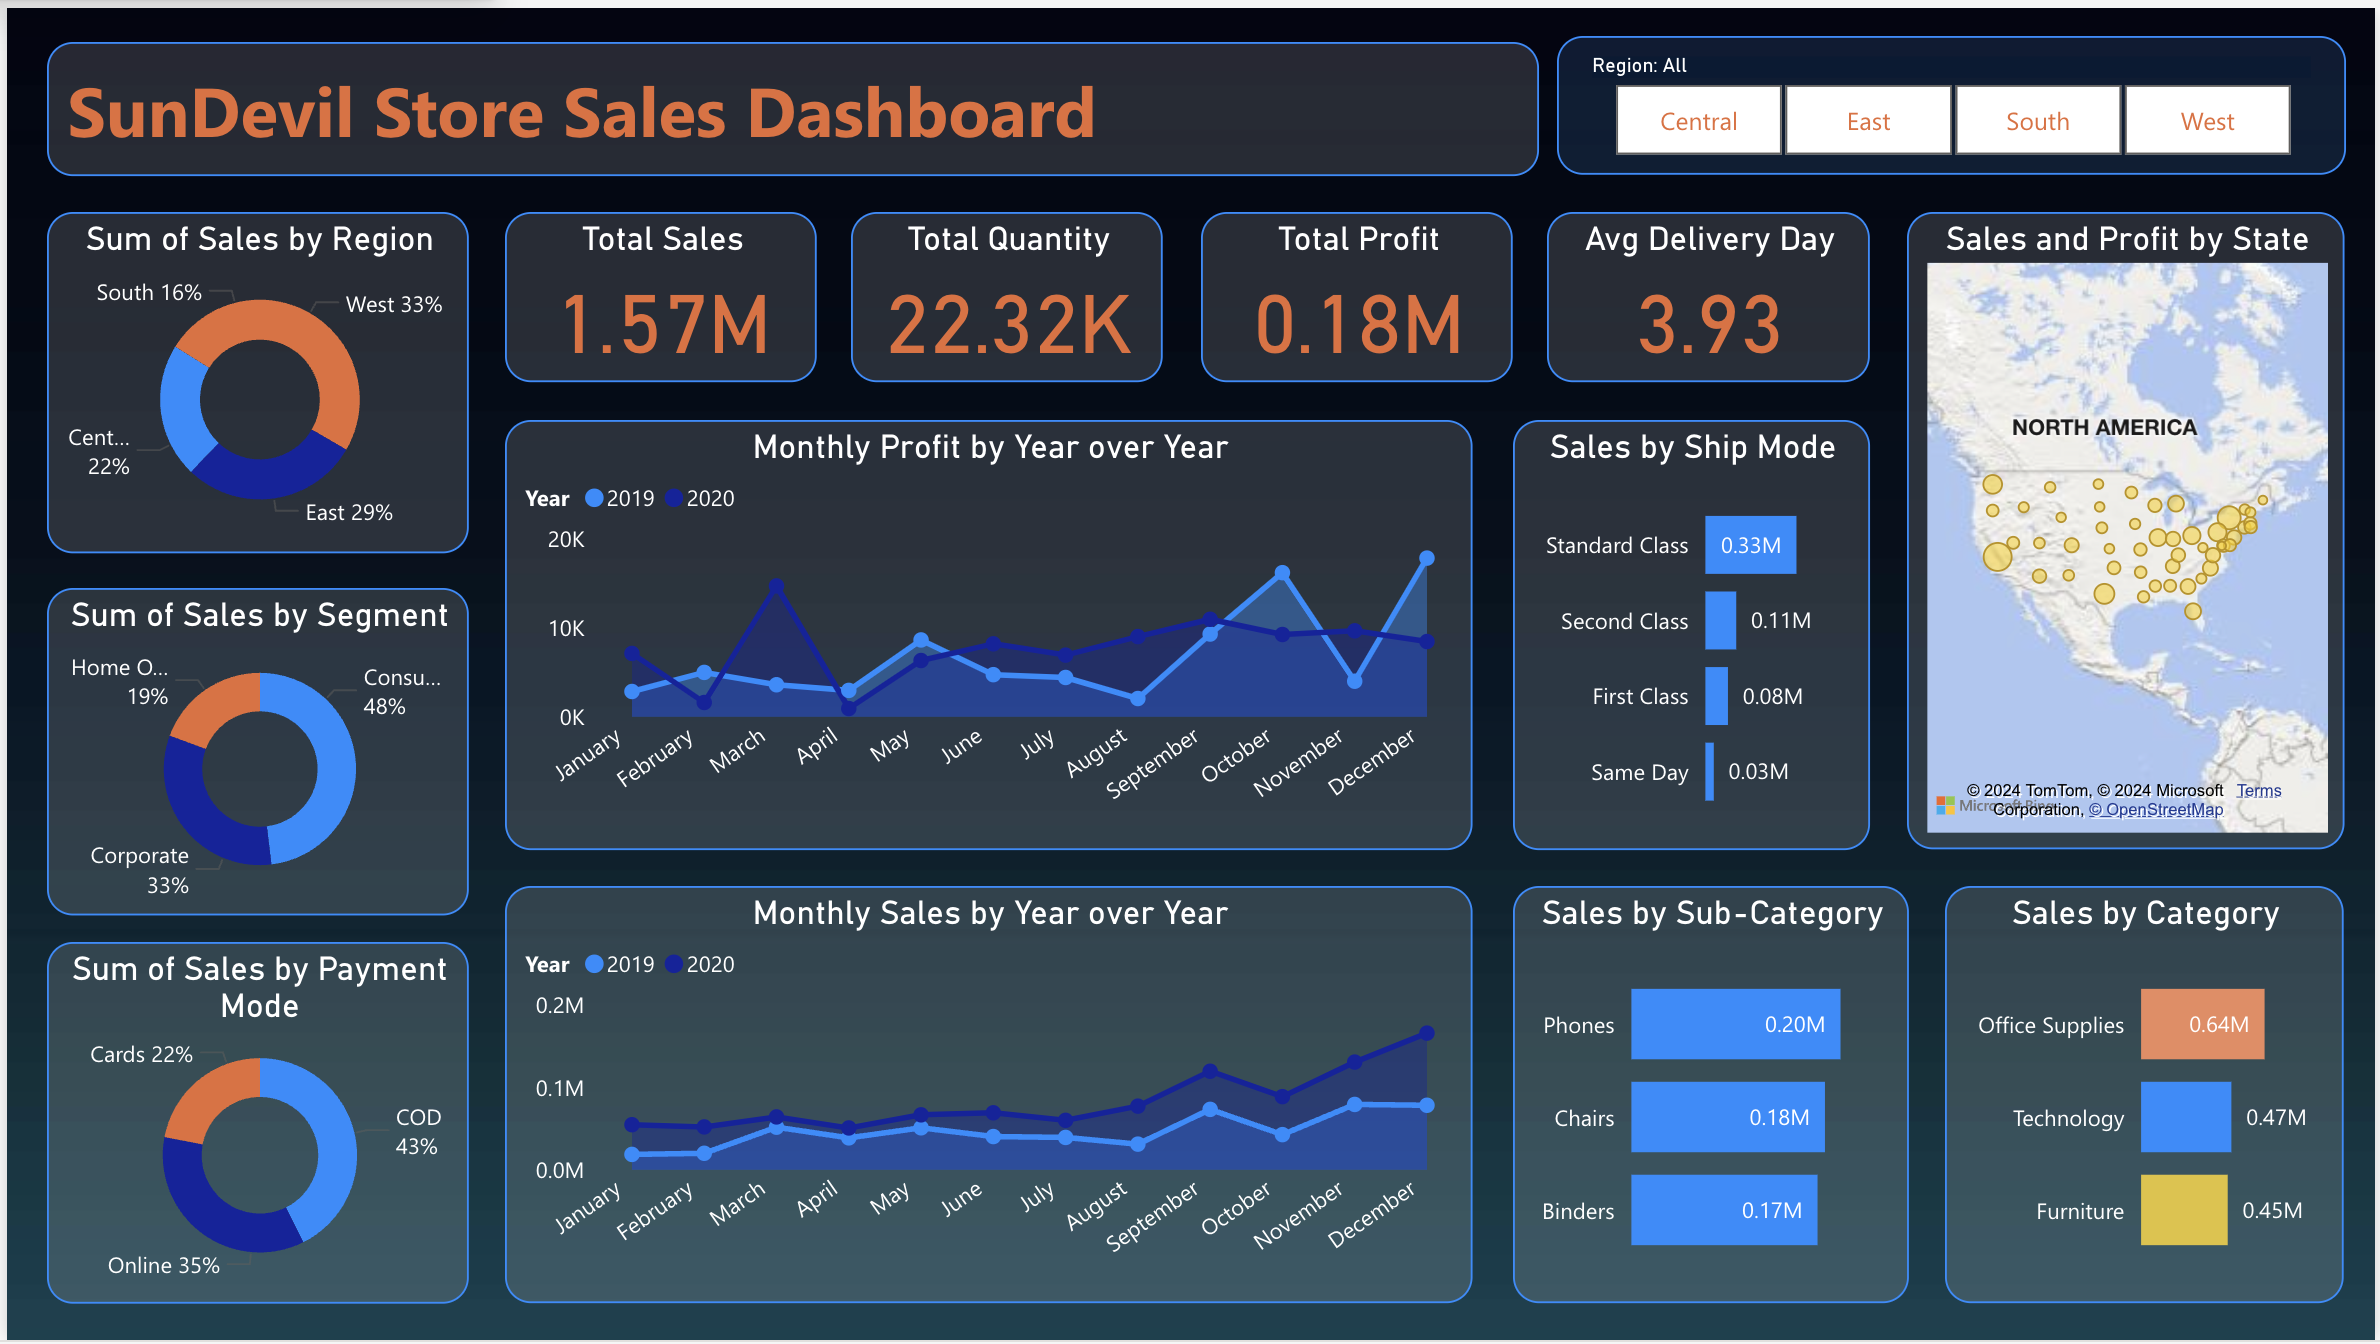

The page's visual inventory and layout, read from the dashboard file:
{"tool":"powerbi","page":{"name":"Dashboard ","canvas":[1280,720],"ordinal":0},"visuals":[{"type":"clusteredBarChart","title":"Sales by Category","fields":{"Category":["Sheet1.Category"],"Y":["Sum(Sheet1.Sales)"]},"box":[1047.4,474.8,215.4,225.4],"z":0},{"type":"clusteredBarChart","title":"Sales by Sub-Category","fields":{"Category":["Sheet1.Sub-Category"],"Y":["Sum(Sheet1.Sales)"]},"box":[813.5,474.8,214,225.4],"z":1000},{"type":"clusteredBarChart","title":"Sales by Ship Mode","fields":{"Category":["Sheet1.Ship Mode"],"Y":["Sum(Sheet1.Sales)"]},"box":[813.5,222.5,192.8,232.4],"z":2000},{"type":"areaChart","title":"Monthly Sales by Year over Year","fields":{"Y":["Sum(Sheet1.Sales)"],"Category":["Sheet1.Order Date.Variation.Date Hierarchy.Month","Sheet1.Order Date.Variation.Date Hierarchy.Day"],"Series":["Sheet1.Order Date.Variation.Date Hierarchy.Year"]},"box":[269.3,474.8,523,225.4],"z":3000},{"type":"areaChart","title":"Monthly Profit by Year over Year","fields":{"Category":["Sheet1.Order Date.Variation.Date Hierarchy.Month","Sheet1.Order Date.Variation.Date Hierarchy.Day"],"Series":["Sheet1.Order Date.Variation.Date Hierarchy.Year"],"Y":["Sum(Sheet1.Profit)"]},"box":[269.3,222.5,523,232.4],"z":4000},{"type":"map","title":"Sales and Profit by State","fields":{"Category":["Sheet1.State"],"Size":["Sum(Sheet1.Sales)"]},"box":[1027.6,110.6,236.7,344.4],"z":5000},{"type":"donutChart","fields":{"Category":["Sheet1.Payment Mode"],"Y":["Sum(Sheet1.Sales)"]},"box":[21.3,504.6,228.2,195.6],"z":6000},{"type":"donutChart","fields":{"Category":["Sheet1.Segment"],"Y":["Sum(Sheet1.Sales)"]},"box":[21.3,313.2,228.2,177.2],"z":7000},{"type":"slicer","fields":{"Values":["Sheet1.Region"]},"box":[837.6,15.6,426.6,75.1],"z":8000},{"type":"textbox","box":[21.3,18.4,806.5,72.3],"z":9000},{"type":"donutChart","fields":{"Y":["Sum(Sheet1.Sales)"],"Category":["Sheet1.Region"]},"box":[21.3,110.6,228.2,184.3],"z":10000},{"type":"card","title":"Total Sales","fields":{"Values":["Sum(Sheet1.Sales)"]},"box":[269.3,110.6,168.7,92.1],"z":11000},{"type":"card","title":"Total Profit","fields":{"Values":["Sum(Sheet1.Profit)"]},"box":[644.9,110.6,168.7,92.1],"z":12000},{"type":"card","title":"Total Quantity ","fields":{"Values":["Sum(Sheet1.Quantity)"]},"box":[456.4,110.6,168.7,92.1],"z":13000},{"type":"card","title":"Avg Delivery Day","fields":{"Values":["Avg(Sheet1.AvgDeliveryDays)"]},"box":[832,110.6,174.3,92.1],"z":14000}]}

Visuals, with their boxes in screenshot pixels (x1, y1, x2, y2), scaled from the page's 1280x720 canvas onto the 2380x1344 screenshot:
"Sales by Category" clusteredBarChart: x1=1948, y1=886, x2=2348, y2=1307
"Sales by Sub-Category" clusteredBarChart: x1=1513, y1=886, x2=1911, y2=1307
"Sales by Ship Mode" clusteredBarChart: x1=1513, y1=415, x2=1871, y2=849
"Monthly Sales by Year over Year" areaChart: x1=501, y1=886, x2=1473, y2=1307
"Monthly Profit by Year over Year" areaChart: x1=501, y1=415, x2=1473, y2=849
"Sales and Profit by State" map: x1=1911, y1=206, x2=2351, y2=849
donutChart - Sheet1.Payment Mode x Sum(Sheet1.Sales): x1=40, y1=942, x2=464, y2=1307
donutChart - Sheet1.Segment x Sum(Sheet1.Sales): x1=40, y1=585, x2=464, y2=915
slicer - Sheet1.Region: x1=1557, y1=29, x2=2351, y2=169
textbox: x1=40, y1=34, x2=1539, y2=169
donutChart - Sum(Sheet1.Sales) x Sheet1.Region: x1=40, y1=206, x2=464, y2=550
"Total Sales" card: x1=501, y1=206, x2=814, y2=378
"Total Profit" card: x1=1199, y1=206, x2=1513, y2=378
"Total Quantity " card: x1=849, y1=206, x2=1162, y2=378
"Avg Delivery Day" card: x1=1547, y1=206, x2=1871, y2=378
